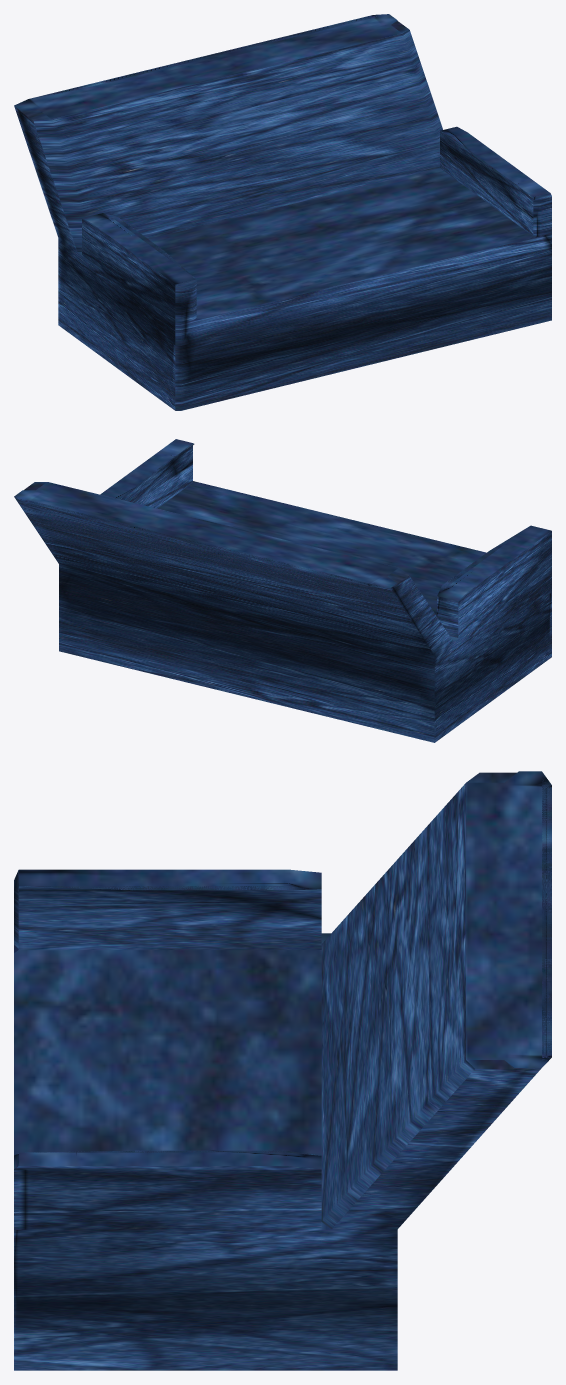
File: sofa1.glb
3 views of the same model, one above another, from view 1: azimuth 30°, elevation 25°; view 2: azimuth 150°, elevation 25°; view 3: azimuth 270°, elevation 25° (orthographic). The views are drawn at different scales.
Parts seen in each view (by area): view 1: Cube; view 2: Cube; view 3: Cube.
Part boxes in pixels (<box>): Cube: <box>14,14,551,410</box>; Cube: <box>14,439,551,742</box>; Cube: <box>14,771,551,1370</box>.
Bounding box in the file's own units: 15.77 × 7.51 × 12.09.
Materials: 1 (1 with a texture image).
